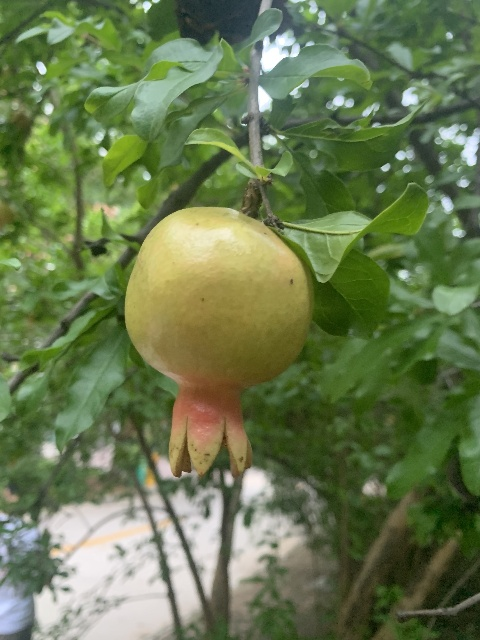mid-growth: (122, 207, 313, 483)
